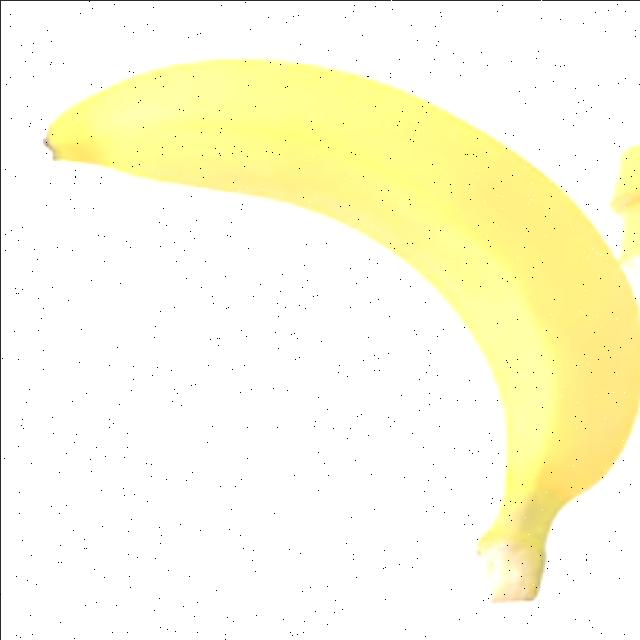banana: (36, 56, 640, 609)
